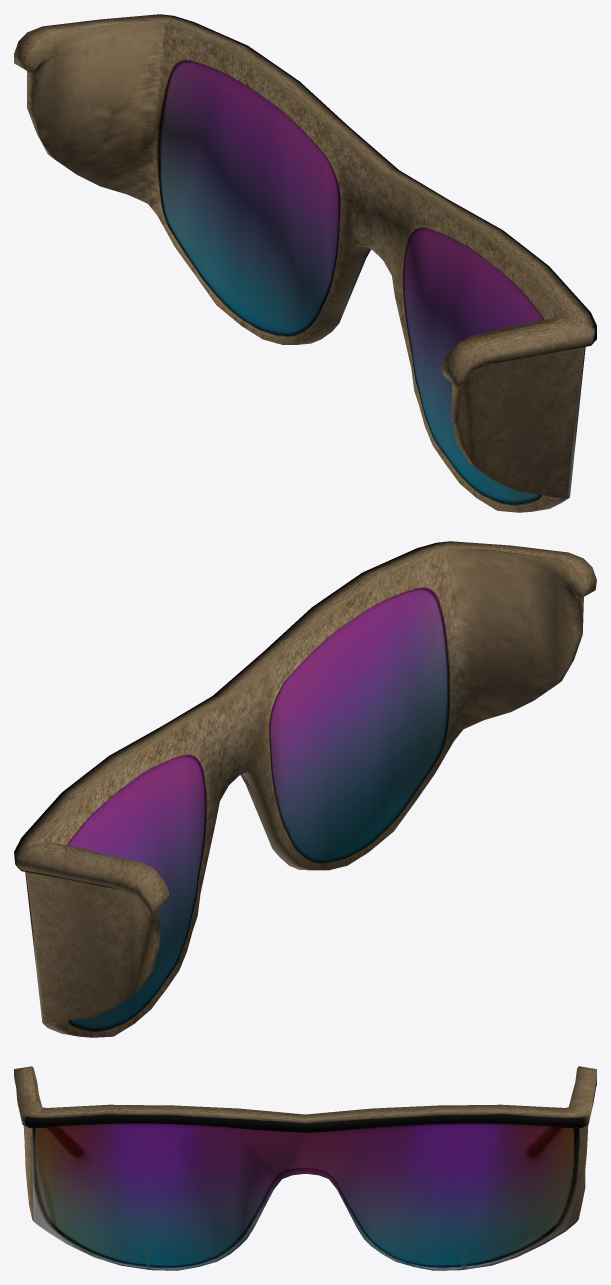
The model's file is sunglasses-visor.glb.
The picture shows the model from 3 angles, top to bottom: view 1: azimuth 30°, elevation 25°; view 2: azimuth 150°, elevation 25°; view 3: azimuth 270°, elevation 25°; orthographic projection. The views are drawn at different scales.
Visible parts, largest first — view 1: tripo_node_ff2713f8-a346-4aa7-9490-4da83f553140; view 2: tripo_node_ff2713f8-a346-4aa7-9490-4da83f553140; view 3: tripo_node_ff2713f8-a346-4aa7-9490-4da83f553140.
Part boxes in pixels (x1,y1,x2,y2): tripo_node_ff2713f8-a346-4aa7-9490-4da83f553140: (14,14,596,512); tripo_node_ff2713f8-a346-4aa7-9490-4da83f553140: (14,541,596,1037); tripo_node_ff2713f8-a346-4aa7-9490-4da83f553140: (14,1066,596,1270).
Bounding box in the file's own units: 0.1487 × 0.2153 × 0.6849.
1 material, 1 textured.
